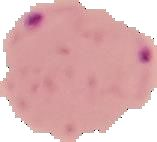parasitized: (110, 30, 157, 90), (12, 12, 63, 54)
